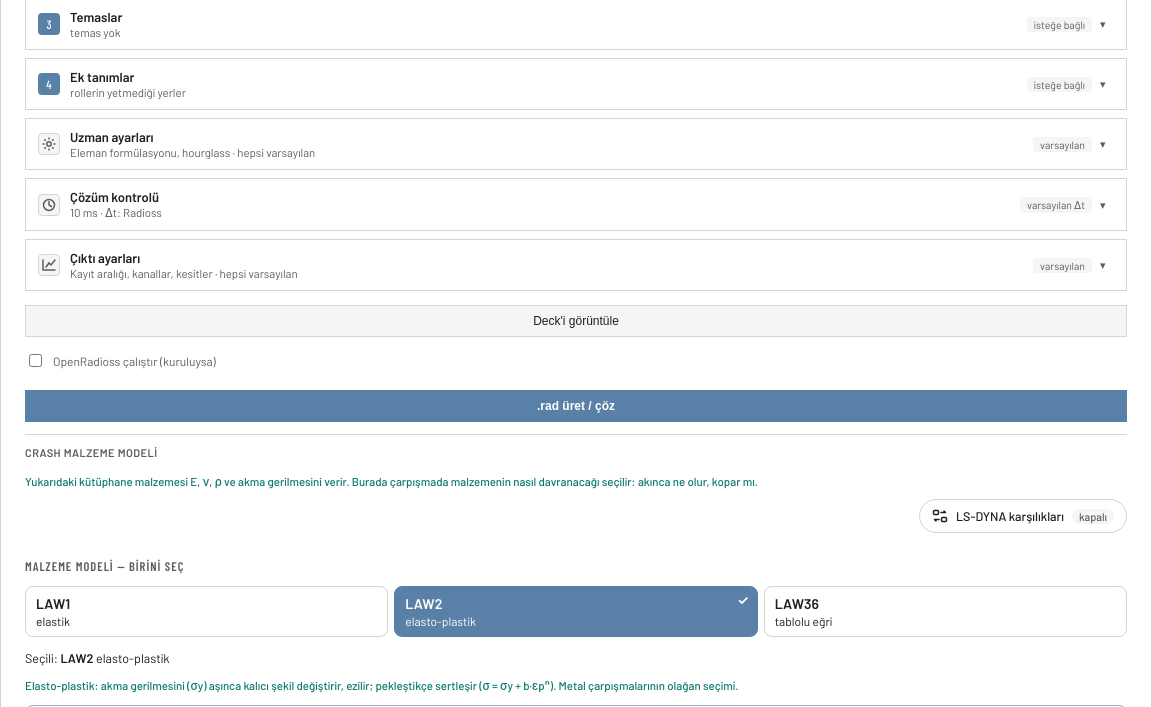
Test: CrashPanel › 1.23 C6: enerji grafiği (IE, KE, HG, temas, toplam) + enerji özeti
The width and height of the screenshot is (1152, 707).
(page scrolled)
Click the checkbox labelled "OpenRadioss çalıştır (kuruluysa)": [36, 361] box [29,354,42,367]
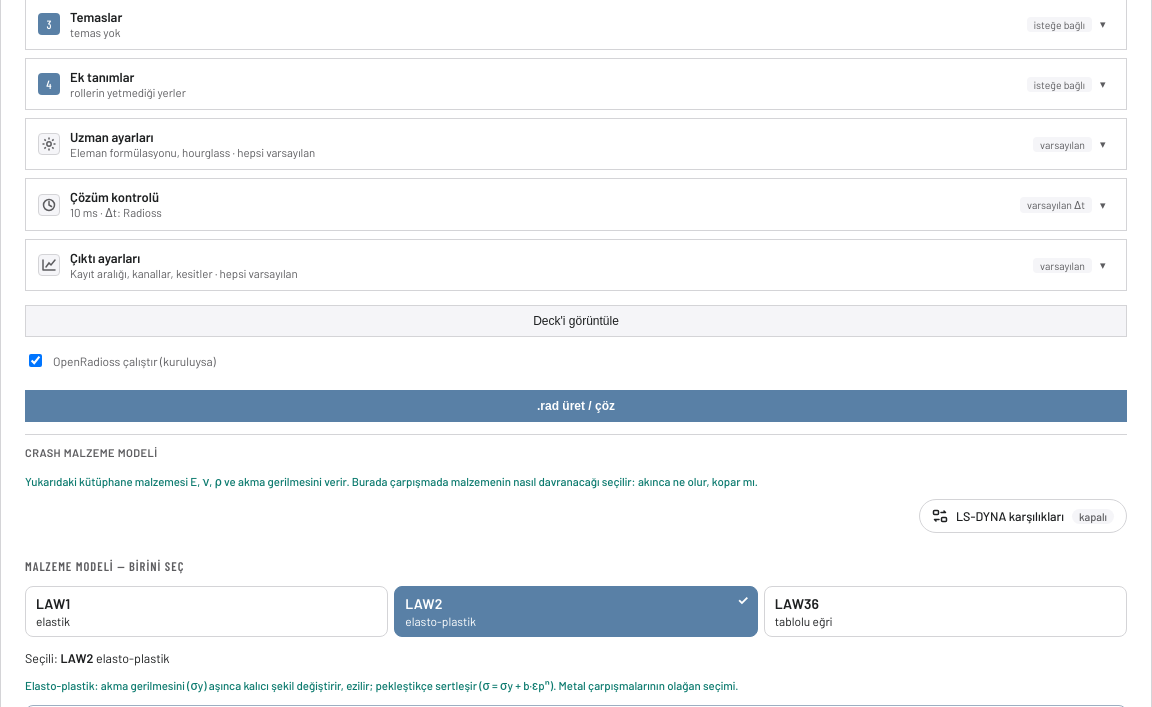
Click the button ".rad üret / çöz": [576, 406] box [25,390,1127,422]
(page scrolled)
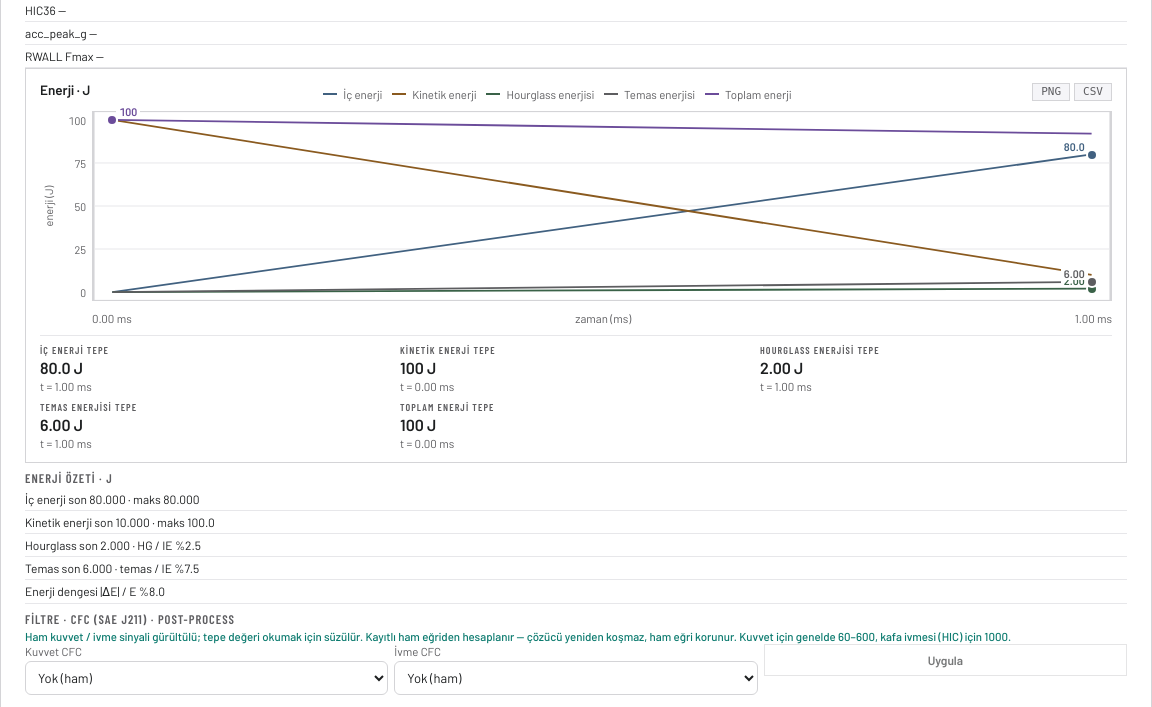
Result: the element named "Enerji–zaman grafiği" shows "İç enerji" at [343,87,382,101]
Result: the element named "Enerji–zaman grafiği" shows "Kinetik enerji" at [412,87,476,101]
Result: the element named "Enerji–zaman grafiği" shows "Hourglass enerjisi" at [506,87,594,101]
